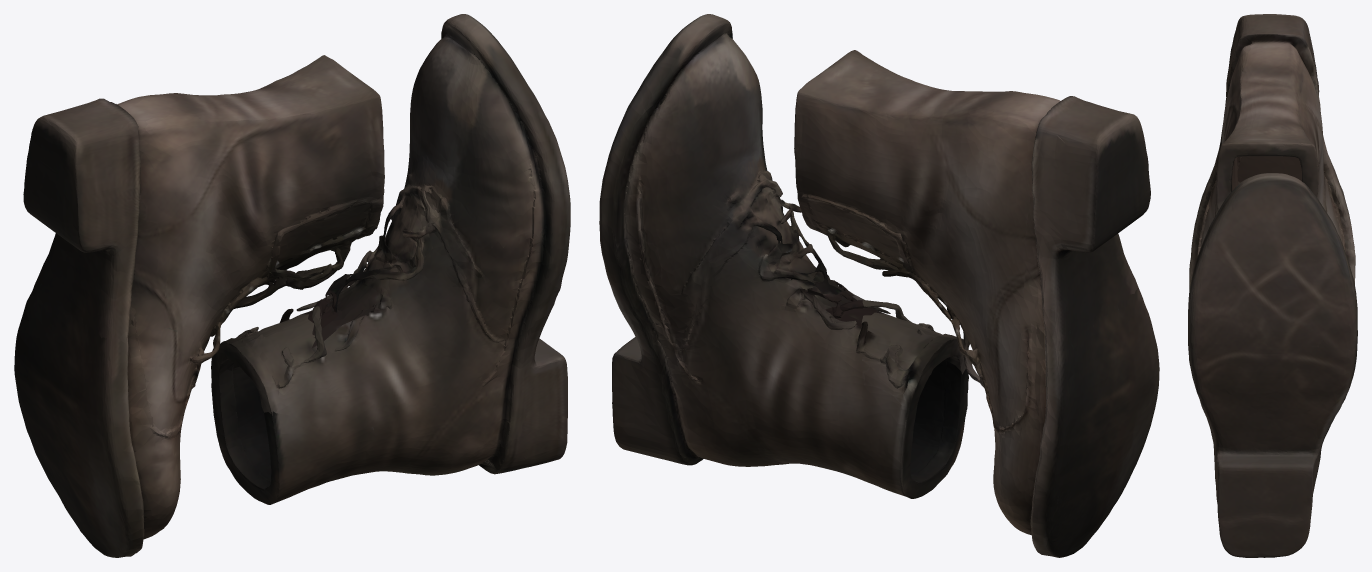
File: boots.fbx
3 views of the same model, side by side, from view 1: azimuth 30°, elevation 25°; view 2: azimuth 150°, elevation 25°; view 3: azimuth 270°, elevation 25° (orthographic). The views are drawn at different scales.
Parts seen in each view (by area): view 1: boots; view 2: boots; view 3: boots.
Boxes of the visible parts, x1=… form: boots: x1=14, y1=14, x2=570, y2=557; boots: x1=599, y1=14, x2=1159, y2=557; boots: x1=1188, y1=14, x2=1357, y2=557.
Size of the model in its own units: 0.4095 by 0.3562 by 0.1519.
